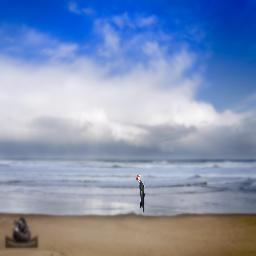Woodpecker: (136, 173, 145, 213)
